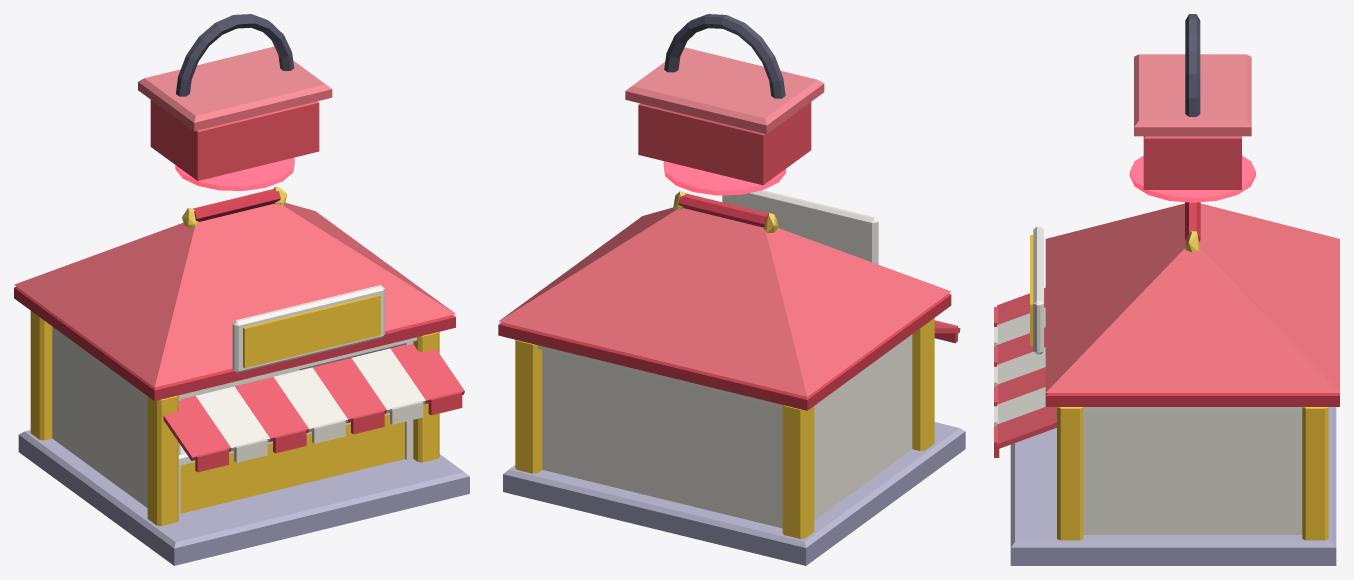
Rendered from ShopHut.glb.
3 renders of one model, left to right at view 1: azimuth 30°, elevation 25°; view 2: azimuth 150°, elevation 25°; view 3: azimuth 270°, elevation 25°, orthographic. The views are drawn at different scales.
Visible parts, largest first — view 1: ShopHut, ShopHut_Glow_acc0; view 2: ShopHut, ShopHut_Glow_acc0; view 3: ShopHut, ShopHut_Glow_acc0.
Boxes of the visible parts, x1,y1,x2,y2 form: ShopHut: (14, 14, 469, 565); ShopHut_Glow_acc0: (175, 157, 294, 190); ShopHut: (498, 14, 965, 565); ShopHut_Glow_acc0: (663, 161, 785, 195); ShopHut: (994, 14, 1339, 565); ShopHut_Glow_acc0: (1129, 155, 1255, 202).
Bounding box in the file's own units: 20.8 × 29.66 × 19.75.
2 materials, 1 textured.
